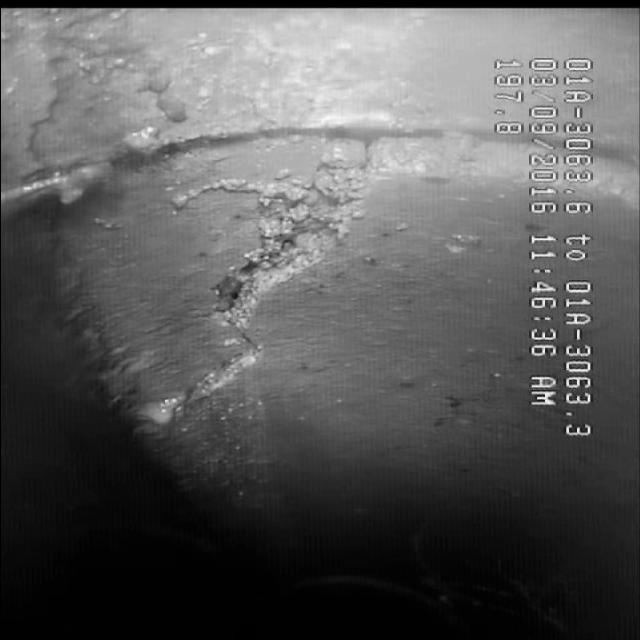Fracture: (136, 162, 402, 400)
